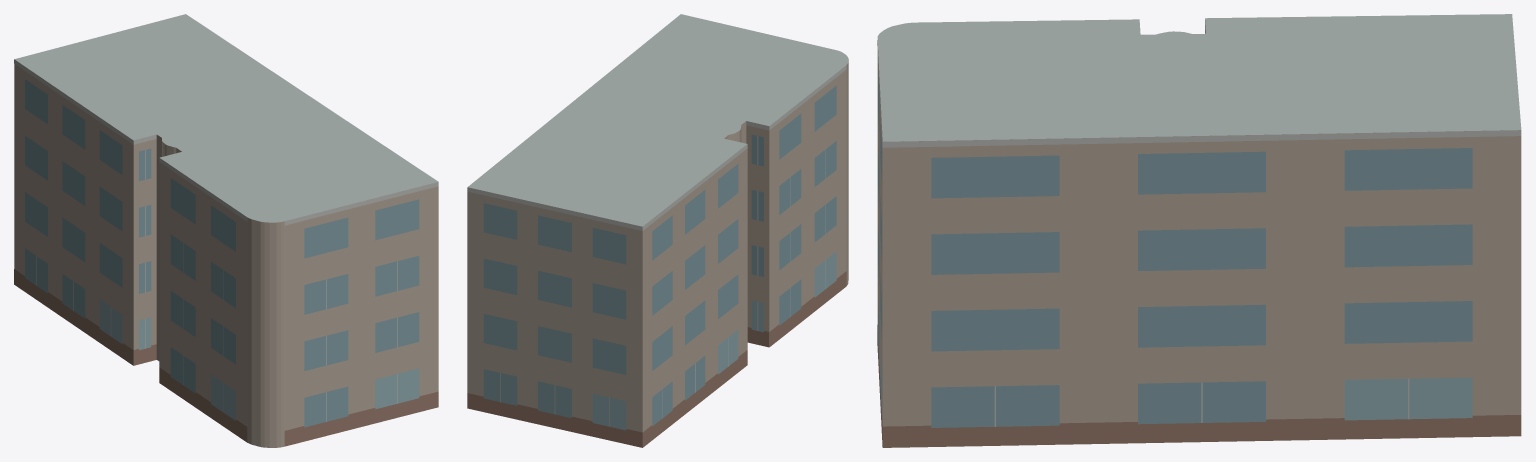
Rendered from survey-upis-32670478.glb.
The picture shows the model from 3 angles, left to right: view 1: azimuth 30°, elevation 25°; view 2: azimuth 150°, elevation 25°; view 3: azimuth 270°, elevation 25°; orthographic projection. The views are drawn at different scales.
Visible parts, largest first — view 1: survey-upis-32670478.tmp; view 2: survey-upis-32670478.tmp; view 3: survey-upis-32670478.tmp.
Part boxes in pixels (x1=…): survey-upis-32670478.tmp: x1=14, y1=14, x2=438, y2=447; survey-upis-32670478.tmp: x1=467, y1=14, x2=848, y2=447; survey-upis-32670478.tmp: x1=877, y1=14, x2=1521, y2=447.
Bounding box in the file's own units: 11.2 × 12.5 × 23.84.
